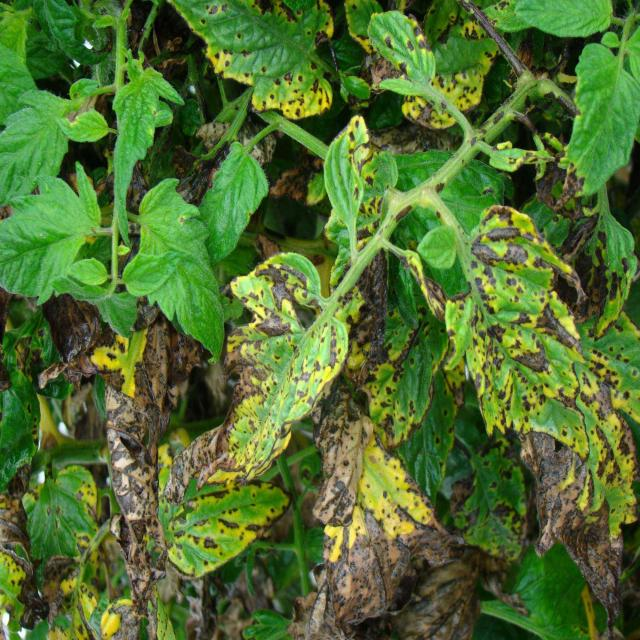blight: (318, 436, 425, 607), (112, 378, 149, 520)
